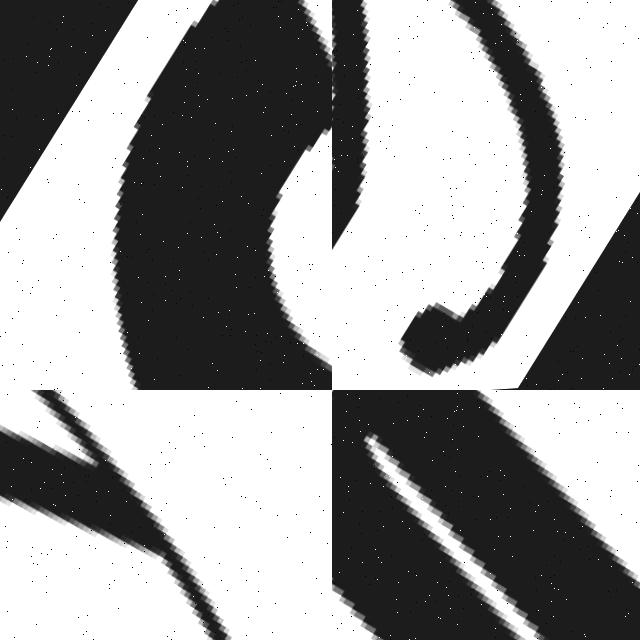C: (0, 0, 332, 390)
G: (332, 0, 640, 390)
N: (332, 390, 640, 640)
Y: (0, 390, 332, 640)
